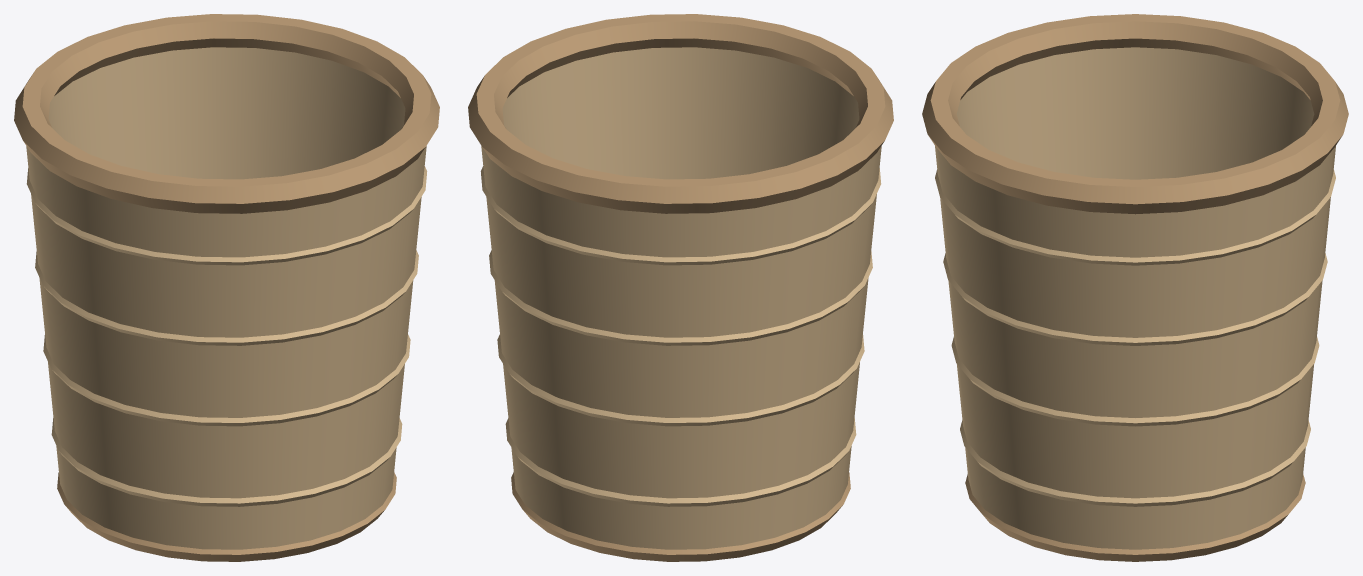
The model's file is waste_bin.glb.
3 renders of one model, left to right at view 1: azimuth 30°, elevation 25°; view 2: azimuth 150°, elevation 25°; view 3: azimuth 270°, elevation 25°, orthographic.
Parts seen in each view (by area): view 1: waste_bin; view 2: waste_bin; view 3: waste_bin.
Part boxes in pixels (box(x1,y1,x2,y2)): waste_bin: box(14, 14, 439, 561); waste_bin: box(468, 14, 893, 561); waste_bin: box(922, 14, 1348, 561).
Bounding box in the file's own units: 0.346 × 0.3541 × 0.346.
